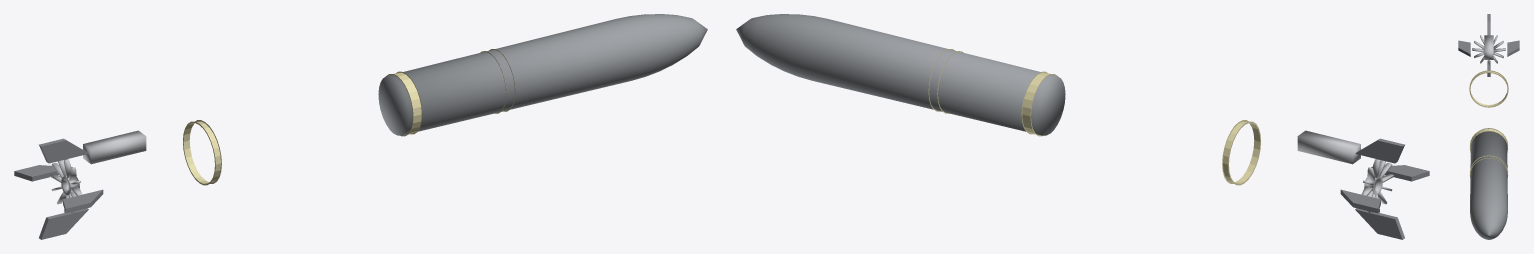
File: US_TORP_Mk45_LOD1.fbx
3 renders of one model, left to right at view 1: azimuth 30°, elevation 25°; view 2: azimuth 150°, elevation 25°; view 3: azimuth 270°, elevation 25°, orthographic. The views are drawn at different scales.
Visible parts, largest first — view 1: WPN_US_TORP_Mk45_LOD1_Body, WPN_US_TORP_Mk45_LOD1_Fins, WPN_US_TORP_Mk45_LOD1_Marking, WPN_US_TORP_Mk45_LOD1_Detail, WPN_US_TORP_Mk45_LOD1_Propulsor; view 2: WPN_US_TORP_Mk45_LOD1_Body, WPN_US_TORP_Mk45_LOD1_Fins, WPN_US_TORP_Mk45_LOD1_Marking, WPN_US_TORP_Mk45_LOD1_Detail, WPN_US_TORP_Mk45_LOD1_Propulsor; view 3: WPN_US_TORP_Mk45_LOD1_Body, WPN_US_TORP_Mk45_LOD1_Marking, WPN_US_TORP_Mk45_LOD1_Fins, WPN_US_TORP_Mk45_LOD1_Propulsor, WPN_US_TORP_Mk45_LOD1_Detail.
Boxes of the visible parts, x1,y1,x2,y2 form: WPN_US_TORP_Mk45_LOD1_Body: [378, 14, 707, 135]; WPN_US_TORP_Mk45_LOD1_Fins: [14, 138, 103, 239]; WPN_US_TORP_Mk45_LOD1_Marking: [183, 49, 515, 185]; WPN_US_TORP_Mk45_LOD1_Detail: [83, 130, 146, 164]; WPN_US_TORP_Mk45_LOD1_Propulsor: [50, 159, 82, 214]; WPN_US_TORP_Mk45_LOD1_Body: [736, 14, 1065, 135]; WPN_US_TORP_Mk45_LOD1_Fins: [1340, 138, 1429, 239]; WPN_US_TORP_Mk45_LOD1_Marking: [928, 49, 1260, 185]; WPN_US_TORP_Mk45_LOD1_Detail: [1297, 130, 1360, 164]; WPN_US_TORP_Mk45_LOD1_Propulsor: [1361, 159, 1393, 214]; WPN_US_TORP_Mk45_LOD1_Body: [1470, 128, 1507, 239]; WPN_US_TORP_Mk45_LOD1_Marking: [1469, 70, 1508, 177]; WPN_US_TORP_Mk45_LOD1_Fins: [1458, 14, 1519, 76]; WPN_US_TORP_Mk45_LOD1_Propulsor: [1472, 35, 1505, 65]; WPN_US_TORP_Mk45_LOD1_Detail: [1484, 35, 1493, 59].
Size of the model in its own units: 5.82 by 0.7792 by 0.7792.
